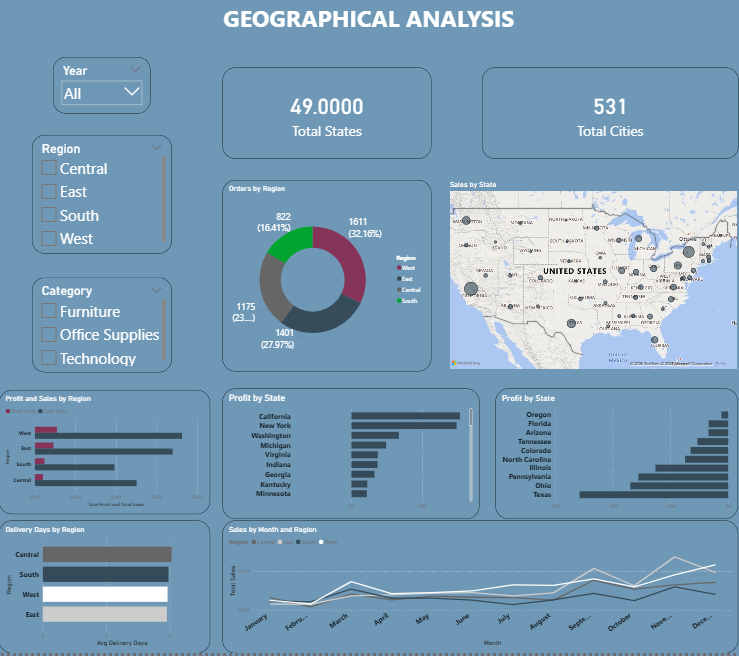

This screenshot's page, from the dashboard's own definition file:
{"tool":"powerbi","page":{"name":"GEOGRAPHICAL ANALYSIS","canvas":[1700,1500],"ordinal":4},"visuals":[{"type":"slicer","fields":{"Values":["DateTable.Year"]},"box":[124.2,130.3,224.2,130.3],"z":0},{"type":"slicer","fields":{"Values":["Superstore.Region"]},"box":[75.8,309.1,321.2,272.7],"z":1000},{"type":"slicer","fields":{"Values":["Superstore.Category"]},"box":[75.8,636.4,321.2,218.2],"z":2000},{"type":"card","fields":{"Values":["DateTable.Total Cities"]},"box":[1110,155,590,210],"z":3000},{"type":"card","fields":{"Values":["DateTable.Total States"]},"box":[515,155,480,210],"z":4000},{"type":"donutChart","title":"Orders by Region","fields":{"Category":["Superstore.Region"],"Y":["DateTable.Total Orders"]},"box":[515,415,480,440],"z":5000},{"type":"map","title":"Sales by State","fields":{"Category":["Superstore.State"],"Size":["Superstore.Total Sales"]},"box":[1030,415,670,440],"z":6000},{"type":"barChart","title":"Profit by State","fields":{"Category":["Superstore.State"],"Y":["DateTable.Total Profit"]},"box":[515.2,893.9,590.9,300],"z":7000},{"type":"clusteredBarChart","title":"Profit and Sales by Region","fields":{"Category":["Superstore.Region"],"Y":["DateTable.Total Profit","Superstore.Total Sales"]},"box":[0,895,485,285],"z":8000},{"type":"barChart","title":"Profit by State","fields":{"Category":["Superstore.State"],"Y":["DateTable.Total Profit"]},"box":[1142.4,893.9,557.6,300],"z":9000},{"type":"barChart","title":"Delivery Days by Region","fields":{"Category":["Superstore.Region"],"Y":["DateTable.Avg Delivery Days"]},"box":[0,1195,485,305],"z":10000},{"type":"lineChart","title":"Sales by Month and Region","fields":{"Y":["Superstore.Total Sales"],"Series":["Superstore.Region"],"Category":["DateTable.Date.Variation.Date Hierarchy.Month"]},"box":[515,1195,1185,305],"z":11000},{"type":"textbox","box":[0,0,1700,130.3],"z":12000}]}

Visuals, with their boxes in screenshot pixels (x1, y1, x2, y2), scaled from the page's 1700x1500 canvas onto the 739x656 screenshot:
slicer - DateTable.Year: (left=54, top=57, right=151, bottom=114)
slicer - Superstore.Region: (left=33, top=135, right=173, bottom=254)
slicer - Superstore.Category: (left=33, top=278, right=173, bottom=374)
card - DateTable.Total Cities: (left=483, top=68, right=738, bottom=160)
card - DateTable.Total States: (left=224, top=68, right=433, bottom=160)
"Orders by Region" donutChart: (left=224, top=181, right=433, bottom=374)
"Sales by State" map: (left=448, top=181, right=738, bottom=374)
"Profit by State" barChart: (left=224, top=391, right=481, bottom=522)
"Profit and Sales by Region" clusteredBarChart: (left=0, top=391, right=211, bottom=516)
"Profit by State" barChart: (left=497, top=391, right=738, bottom=522)
"Delivery Days by Region" barChart: (left=0, top=523, right=211, bottom=655)
"Sales by Month and Region" lineChart: (left=224, top=523, right=738, bottom=655)
textbox: (left=0, top=0, right=738, bottom=57)
